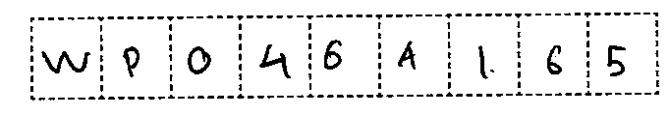0: (179, 41, 220, 82)
1: (465, 42, 498, 82)
4: (255, 41, 297, 83)
5: (599, 39, 632, 83)
6: (539, 42, 571, 80), (319, 34, 349, 73)
A: (392, 35, 423, 76)
P: (116, 43, 148, 82)
W: (35, 39, 94, 82)
